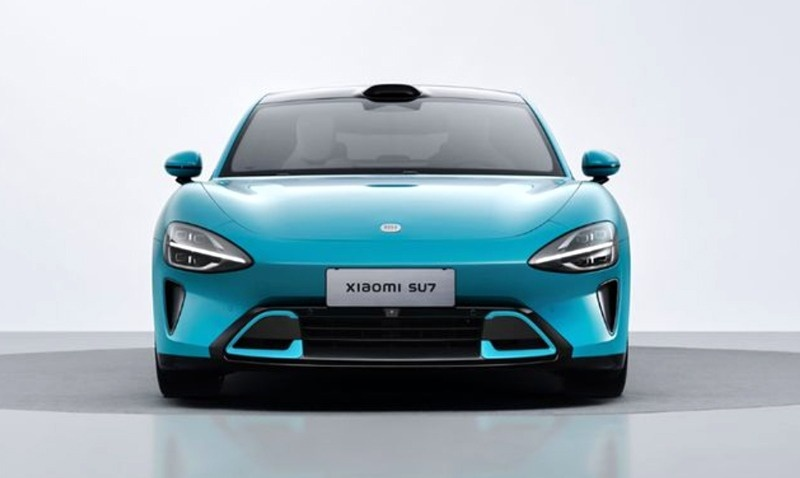su7: (148, 74, 630, 405)
